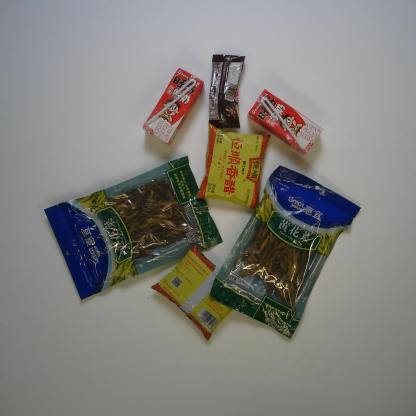Chocolate: (208, 54, 245, 129)
Dried Food: (209, 165, 362, 340), (44, 155, 224, 300)
Milk: (246, 89, 322, 155), (142, 68, 204, 146)
Seasoner: (150, 244, 241, 341), (196, 123, 272, 210)
